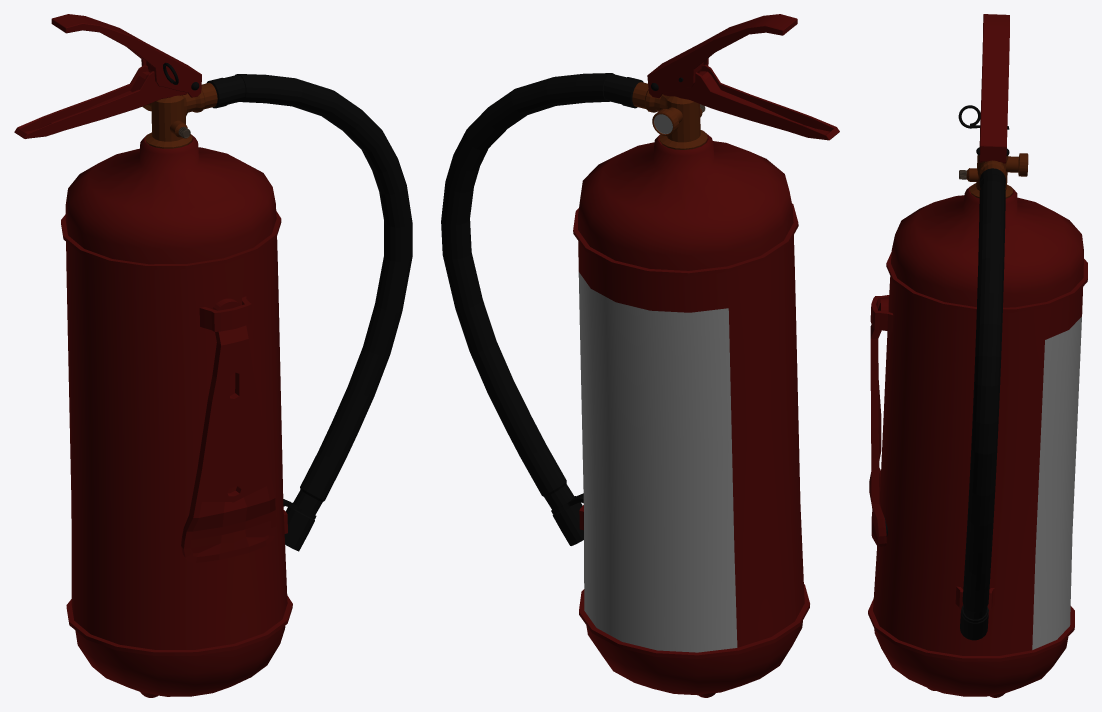
Rendered from tutorial_FE.FBX.
3 renders of one model, left to right at view 1: azimuth 30°, elevation 25°; view 2: azimuth 150°, elevation 25°; view 3: azimuth 270°, elevation 25°, orthographic. The views are drawn at different scales.
Visible parts, largest first — view 1: Fire Extinguisher (×5); view 2: Fire Extinguisher (×4); view 3: Fire Extinguisher (×5).
Part boxes in pixels (box(x1,y1,x2,y2)): Fire Extinguisher (×5): box(14, 14, 412, 696); Fire Extinguisher (×4): box(441, 14, 839, 695); Fire Extinguisher (×5): box(868, 14, 1087, 696).
Size of the model in its own units: 37.08 by 61.61 by 19.86.
